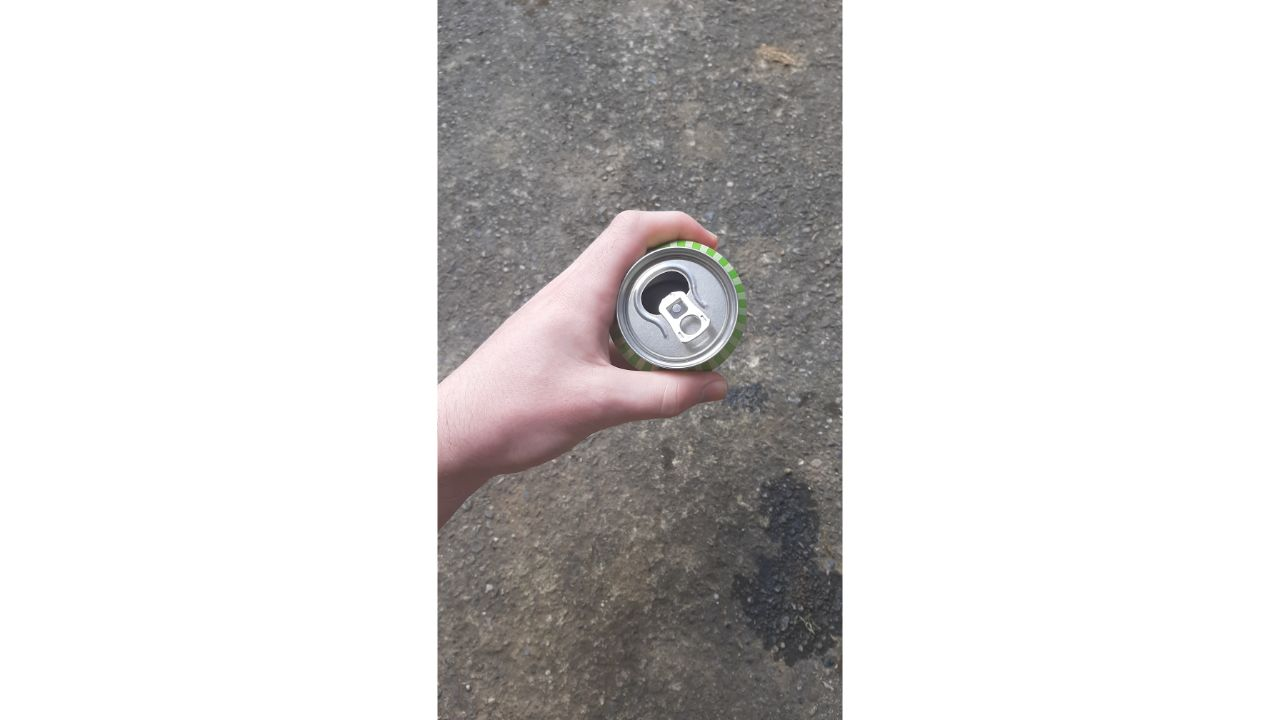Can: (607, 228, 751, 377)
